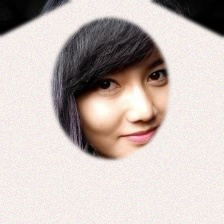Mukena: (0, 11, 223, 224)
